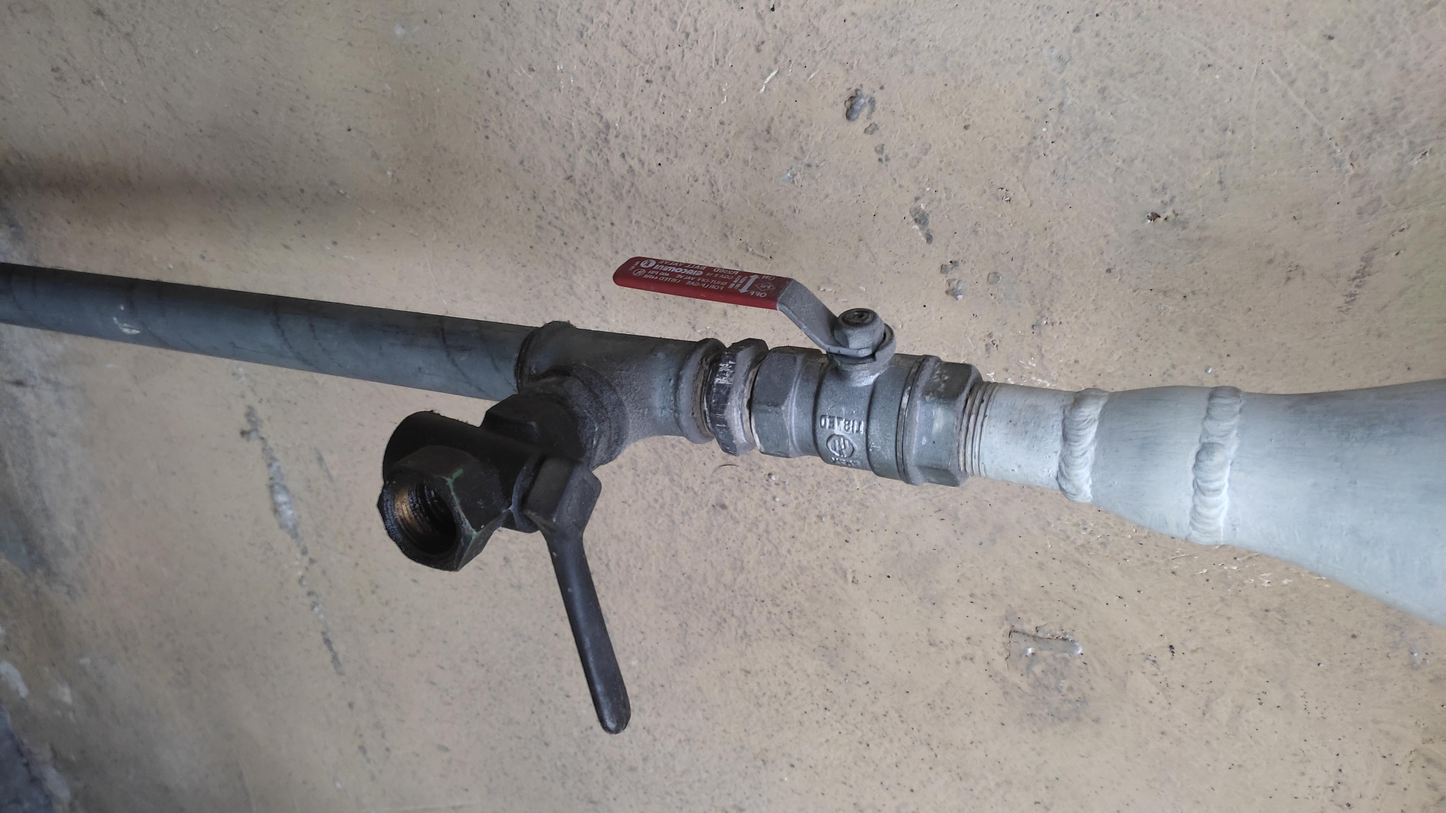closed valve: (374, 377, 668, 774)
opened valve: (601, 238, 1023, 505)
